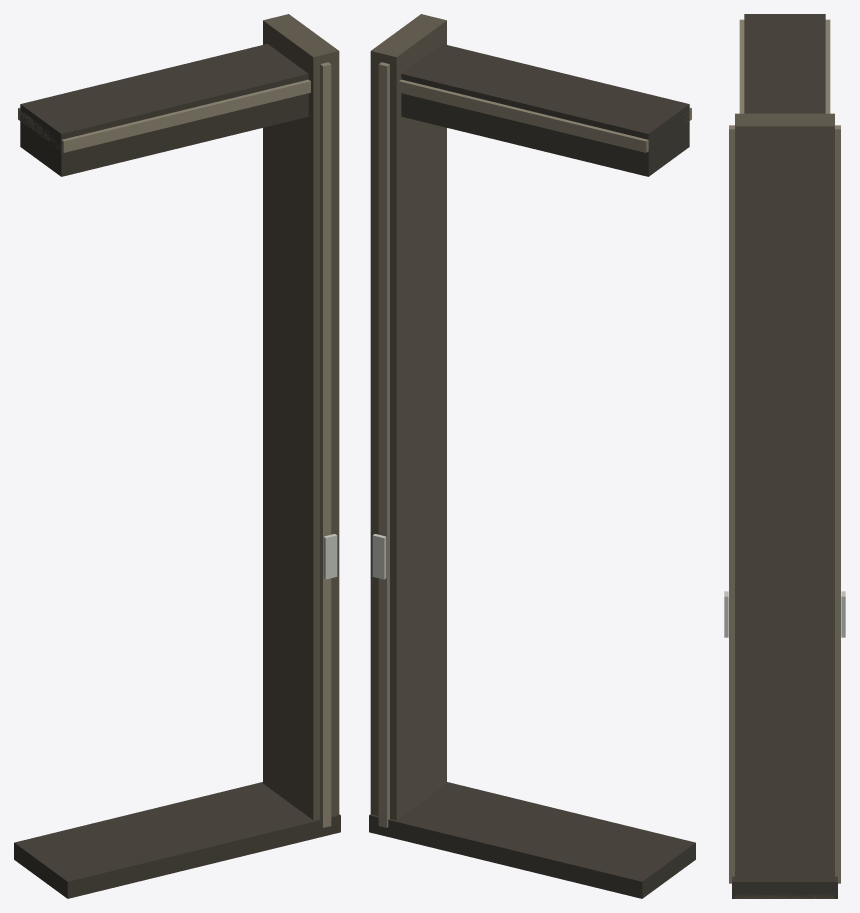
File: CMU3DPairedGovforSolidOpen.glb
3 renders of one model, left to right at view 1: azimuth 30°, elevation 25°; view 2: azimuth 150°, elevation 25°; view 3: azimuth 270°, elevation 25°, orthographic.
Visible parts, largest first — view 1: outer door jamb, continuous top track, threshold, outer jamb highlight, top track lip, outer access reader; view 2: outer door jamb, continuous top track, threshold, outer jamb highlight, top track lip, outer access reader back; view 3: outer door jamb, outer jamb highlight (×2), continuous top track, threshold, top track lip.
Part boxes in pixels (bbox=[...]): outer door jamb: bbox=[263, 14, 339, 820]; continuous top track: bbox=[20, 44, 308, 176]; threshold: bbox=[14, 782, 340, 898]; outer jamb highlight: bbox=[320, 62, 331, 827]; top track lip: bbox=[18, 79, 310, 152]; outer access reader: bbox=[323, 534, 337, 579]; outer door jamb: bbox=[370, 14, 446, 820]; continuous top track: bbox=[401, 44, 689, 176]; threshold: bbox=[369, 782, 695, 898]; outer jamb highlight: bbox=[378, 62, 389, 827]; top track lip: bbox=[399, 79, 691, 152]; outer access reader back: bbox=[372, 534, 386, 579]; outer door jamb: bbox=[735, 113, 834, 898]; outer jamb highlight (×2): bbox=[729, 125, 840, 883]; continuous top track: bbox=[744, 14, 825, 113]; threshold: bbox=[732, 876, 837, 898]; top track lip: bbox=[739, 19, 830, 113].
Bounding box in the file's own units: 1 × 2.73 × 0.388.
